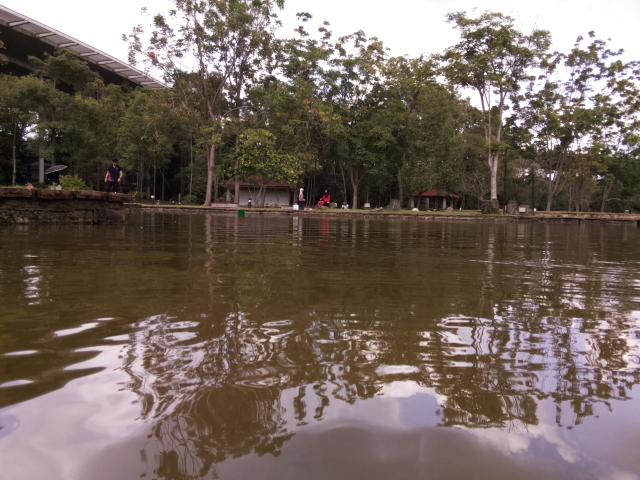obstacle: (237, 209, 246, 219)
